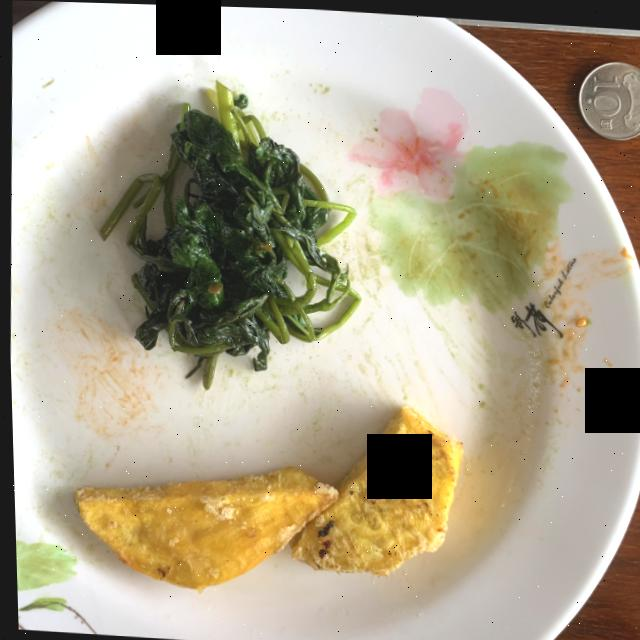coin: (577, 58, 640, 136)
sweet potato leaves: (97, 80, 358, 387)
